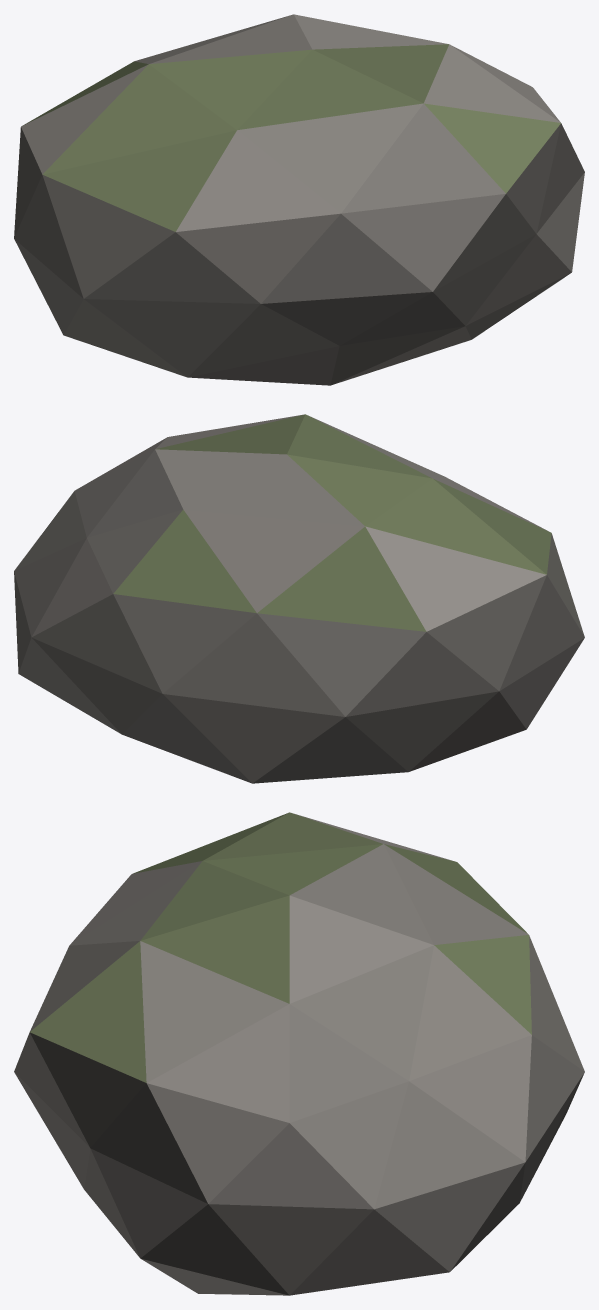
The model's file is rock_2.glb.
The picture shows the model from 3 angles, top to bottom: view 1: azimuth 30°, elevation 25°; view 2: azimuth 150°, elevation 25°; view 3: azimuth 270°, elevation 25°; orthographic projection. The views are drawn at different scales.
Parts seen in each view (by area): view 1: rock_2; view 2: rock_2; view 3: rock_2.
Boxes of the visible parts, x1,y1,x2,y2 form: rock_2: (14, 14, 584, 385); rock_2: (14, 414, 584, 783); rock_2: (14, 812, 584, 1295).
Size of the model in its own units: 2.36 by 1.27 by 1.97.
